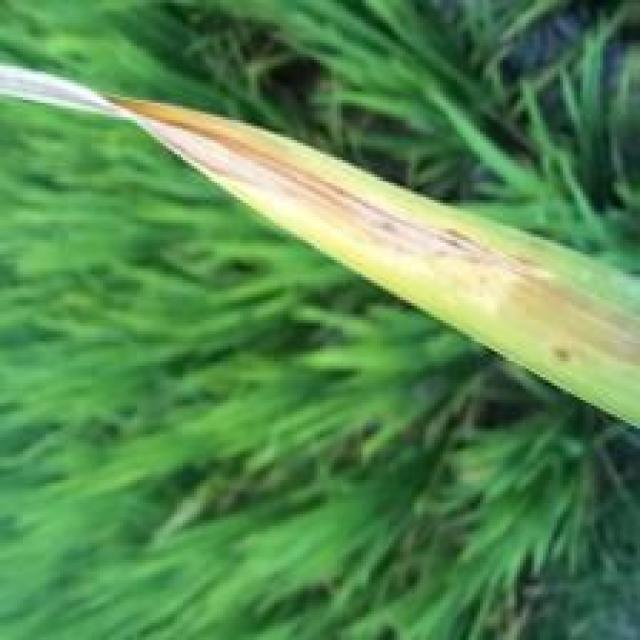Leaf_Scald: (0, 67, 563, 316)
